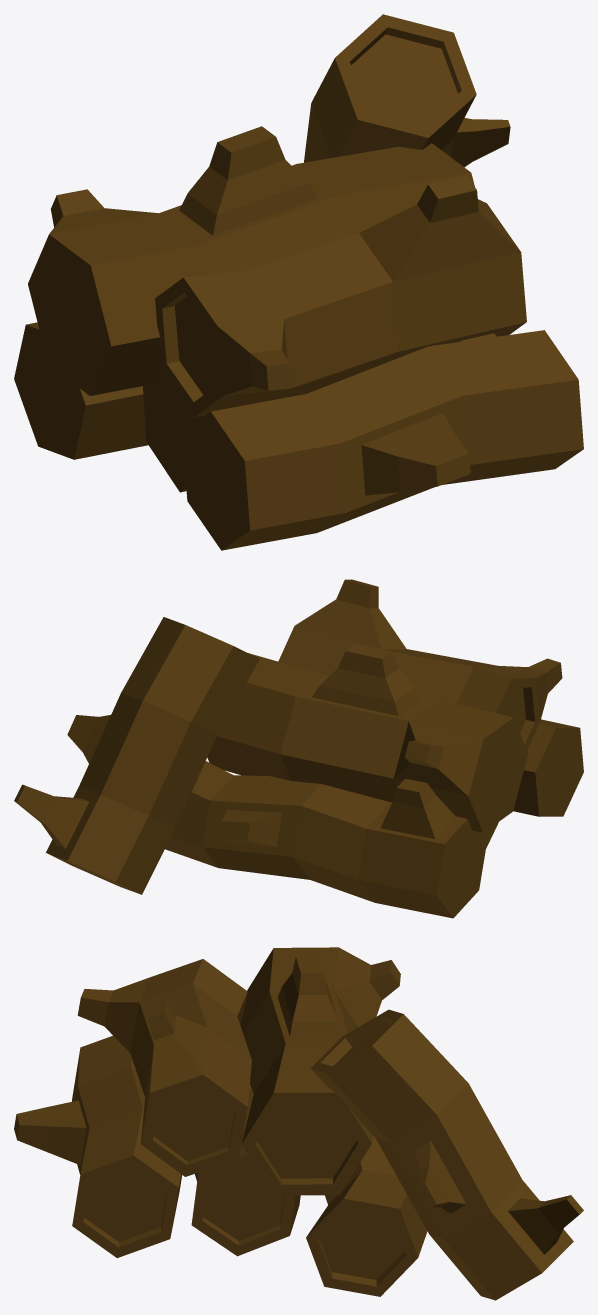
Rendered from trees.fbx.
The picture shows the model from 3 angles, top to bottom: view 1: azimuth 30°, elevation 25°; view 2: azimuth 150°, elevation 25°; view 3: azimuth 270°, elevation 25°; orthographic projection. The views are drawn at different scales.
Visible parts, largest first — view 1: Holzstapel; view 2: Holzstapel; view 3: Holzstapel.
Boxes of the visible parts, x1,y1,x2,y2 form: Holzstapel: (14,14,583,550); Holzstapel: (14,579,583,918); Holzstapel: (14,947,583,1300).
Size of the model in its own units: 116 by 72.9 by 142.
